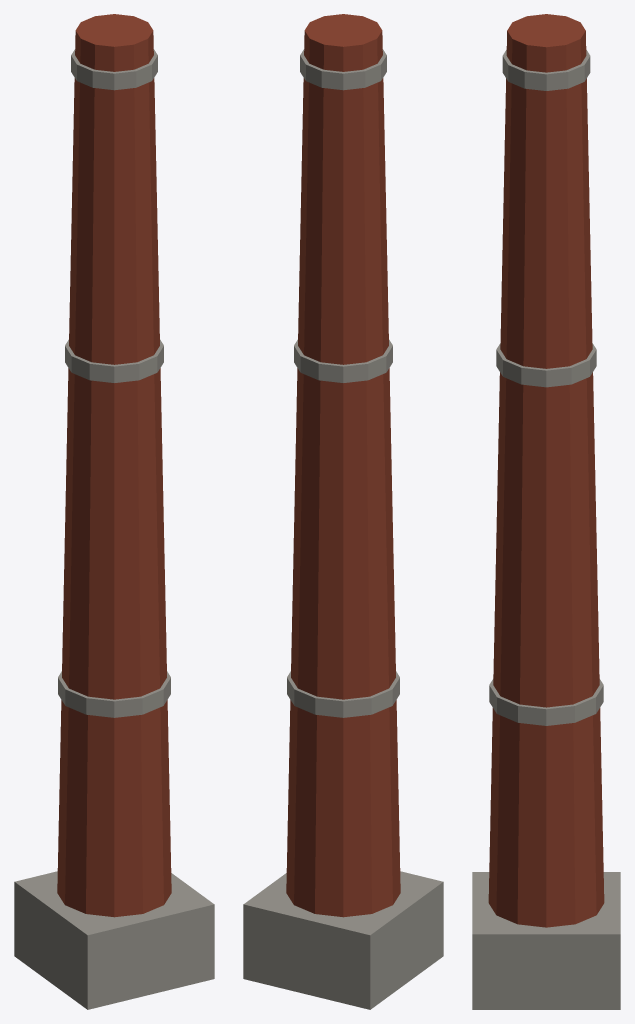
File: smokestack.glb
3 renders of one model, left to right at view 1: azimuth 30°, elevation 25°; view 2: azimuth 150°, elevation 25°; view 3: azimuth 270°, elevation 25°, orthographic.
Parts seen in each view (by area): view 1: smokestack; view 2: smokestack; view 3: smokestack.
Boxes of the visible parts, box(x1,y1,x2,y2) form: smokestack: box(14, 14, 214, 1009); smokestack: box(243, 14, 443, 1009); smokestack: box(472, 14, 620, 1009).
Size of the model in its own units: 3.2 by 22.6 by 3.2.
